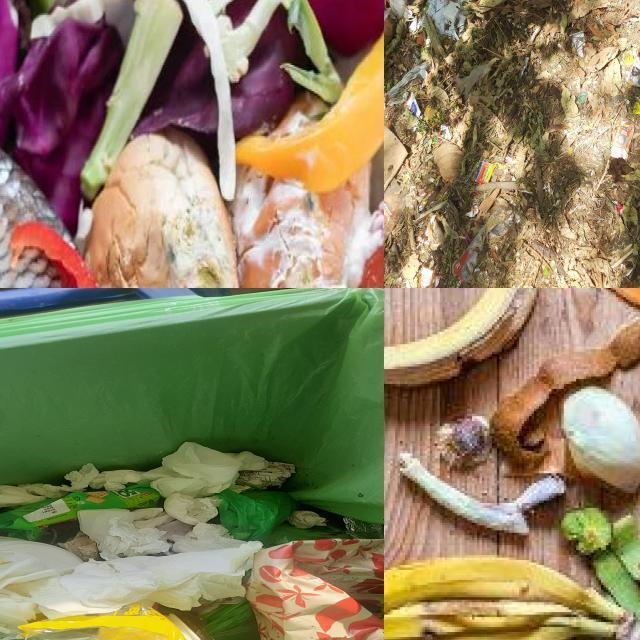Cig_pack: (611, 119, 634, 160)
Disposable: (0, 536, 84, 569)
Garbage: (384, 288, 640, 640), (0, 442, 384, 640), (384, 0, 640, 288)
Plastic_Bag: (0, 603, 187, 640), (217, 490, 296, 541), (201, 600, 261, 640), (258, 525, 351, 548), (453, 228, 486, 284), (426, 0, 467, 37), (384, 181, 405, 244), (488, 213, 520, 238), (488, 215, 513, 238), (388, 0, 408, 17), (493, 205, 508, 215), (493, 205, 508, 213), (384, 7, 392, 21)
Plastic_wraper: (0, 484, 160, 540), (57, 533, 100, 561), (342, 517, 384, 539), (476, 161, 495, 183), (407, 93, 420, 118), (419, 267, 433, 288), (404, 7, 413, 21), (434, 275, 441, 288), (633, 101, 640, 114), (616, 203, 623, 215), (431, 136, 441, 144)
Thermocol: (443, 2, 459, 22)
